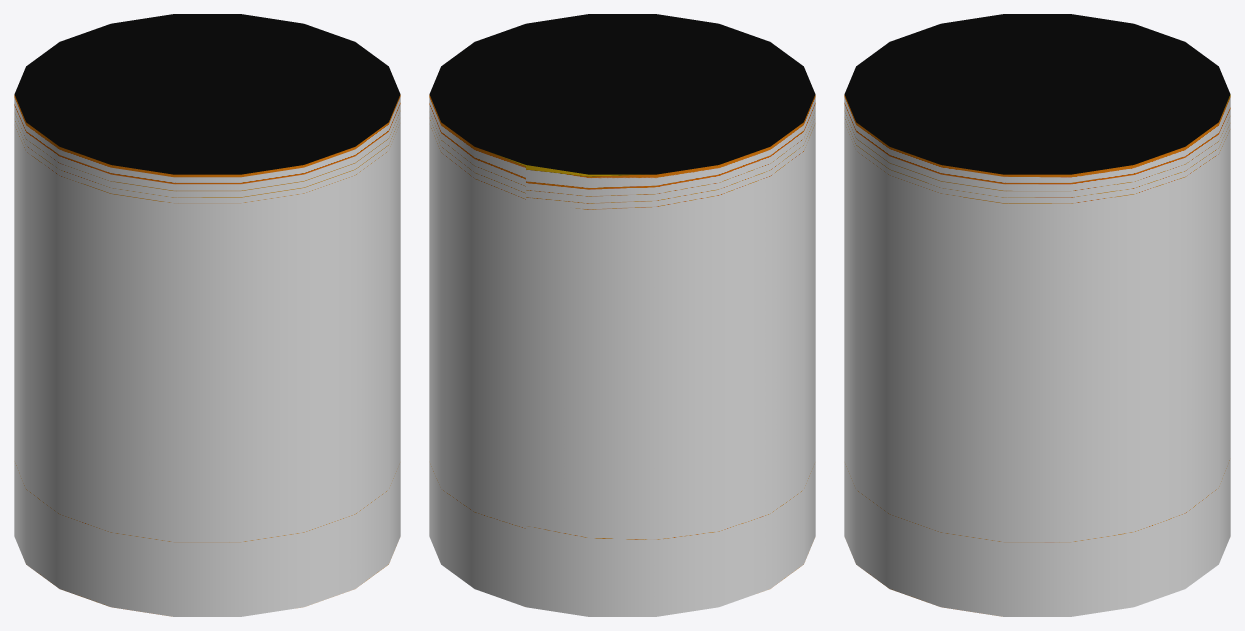
File: G_LightCylinder.fbx
The picture shows the model from 3 angles, left to right: view 1: azimuth 30°, elevation 25°; view 2: azimuth 150°, elevation 25°; view 3: azimuth 270°, elevation 25°; orthographic projection.
Visible parts, largest first — view 1: Cylinder; view 2: Cylinder; view 3: Cylinder.
Boxes of the visible parts, <box> form: Cylinder: <box>14,14,400,616</box>; Cylinder: <box>429,14,815,616</box>; Cylinder: <box>844,14,1230,616</box>.
Size of the model in its own units: 1.97 by 2.53 by 2.
